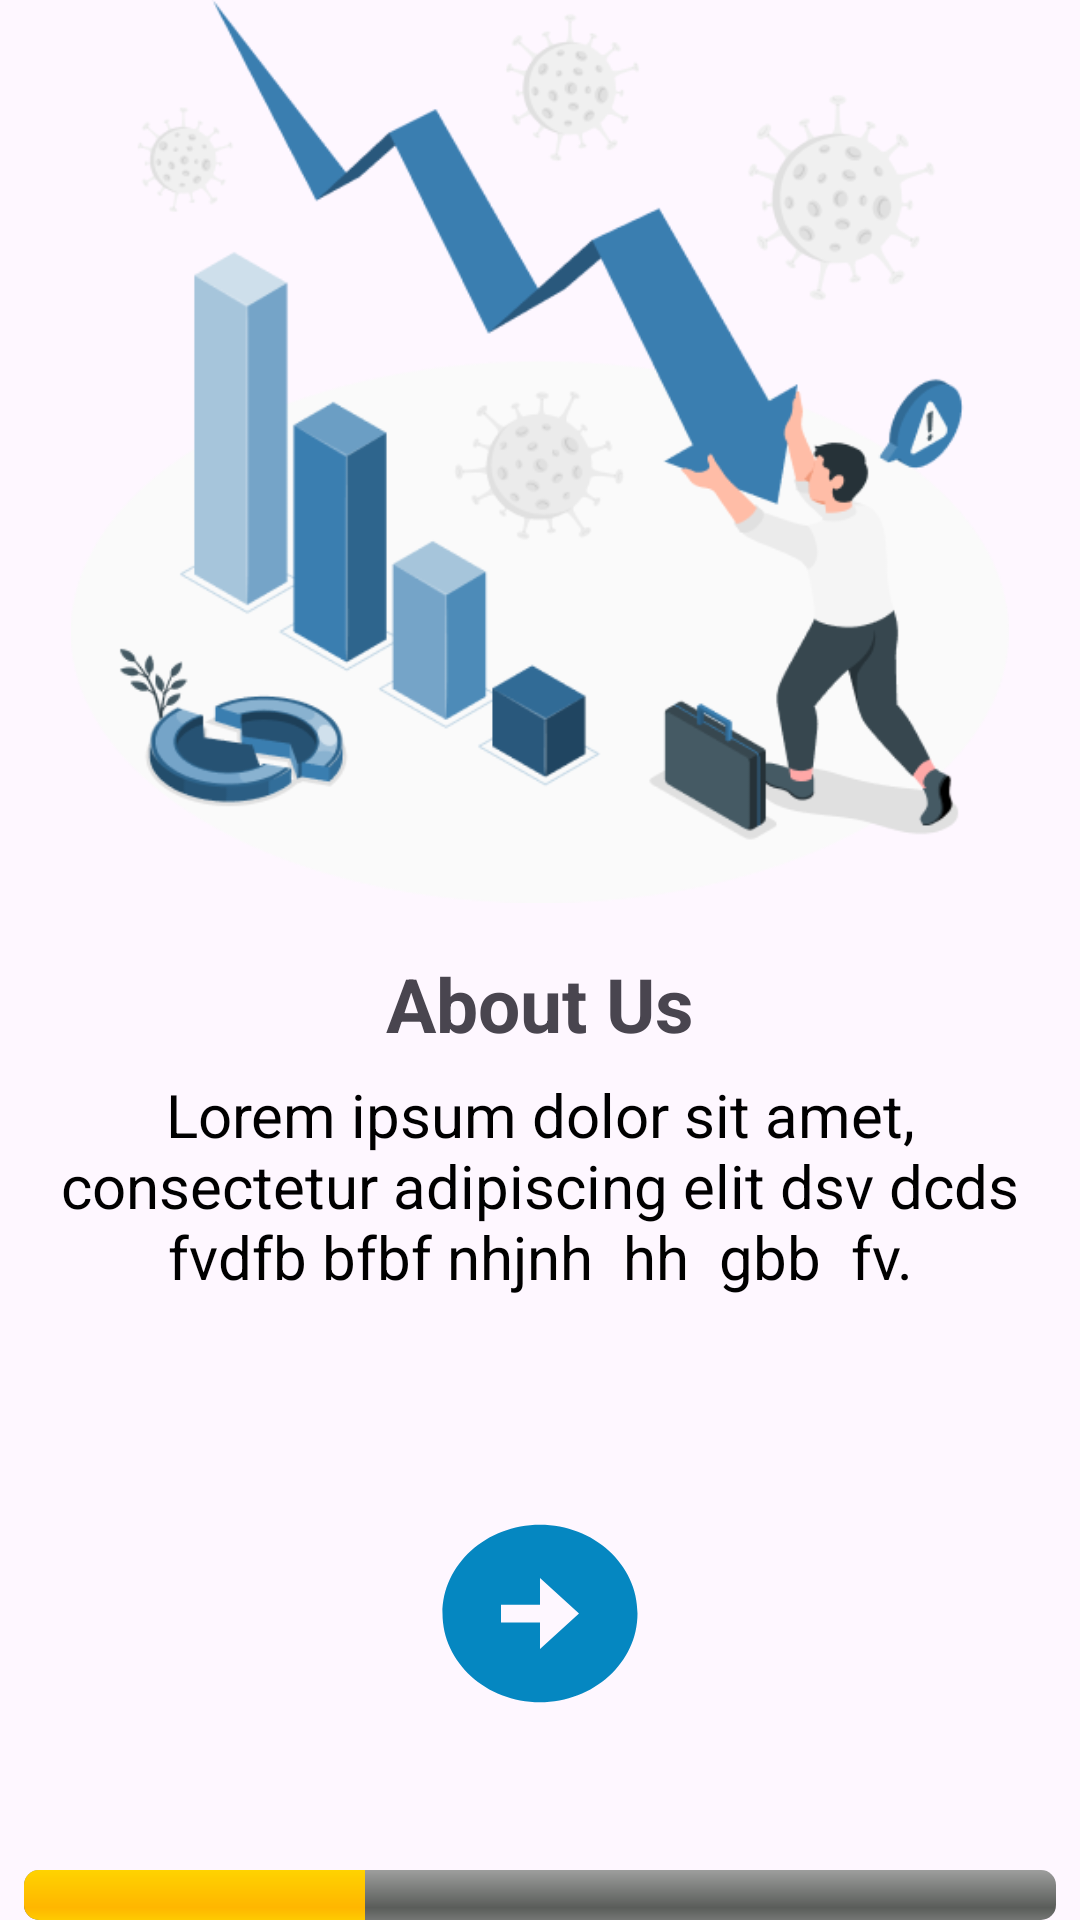

Named icons in this screenshot (1080px x 1920px) and their bounding boxes, bbox=[x1, y1, x2, y2]:
next button: bbox=[442, 1524, 638, 1703]
